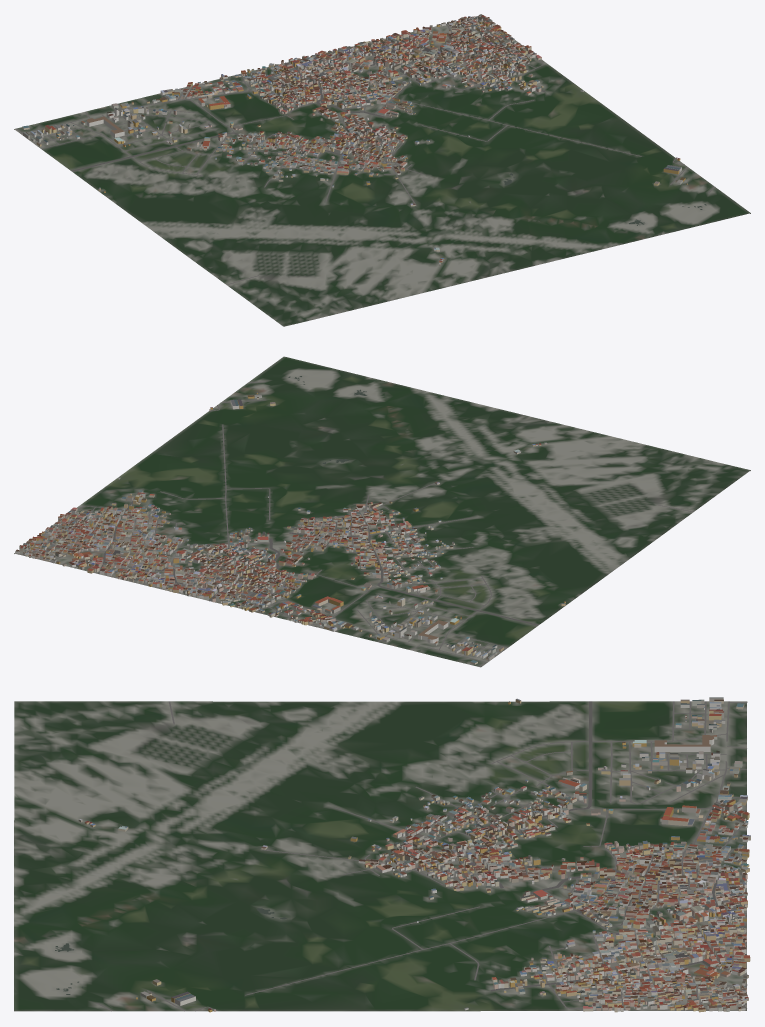
The picture shows the model from 3 angles, top to bottom: view 1: azimuth 30°, elevation 25°; view 2: azimuth 150°, elevation 25°; view 3: azimuth 270°, elevation 25°; orthographic projection. The views are drawn at different scales.
Parts seen in each view (by area): view 1: ground, buildings, roads; view 2: ground, buildings, roads; view 3: ground, buildings, roads.
Boxes of the visible parts, x1,y1,x2,y2 form: ground: (14, 16, 750, 326); buildings: (22, 14, 687, 265); roads: (16, 16, 714, 284); ground: (14, 356, 750, 667); buildings: (15, 392, 565, 664); roads: (17, 381, 693, 666); ground: (14, 701, 747, 1011); buildings: (78, 697, 750, 1012); roads: (97, 701, 747, 1011).
Size of the model in its own units: 1407 by 22.33 by 1410.
